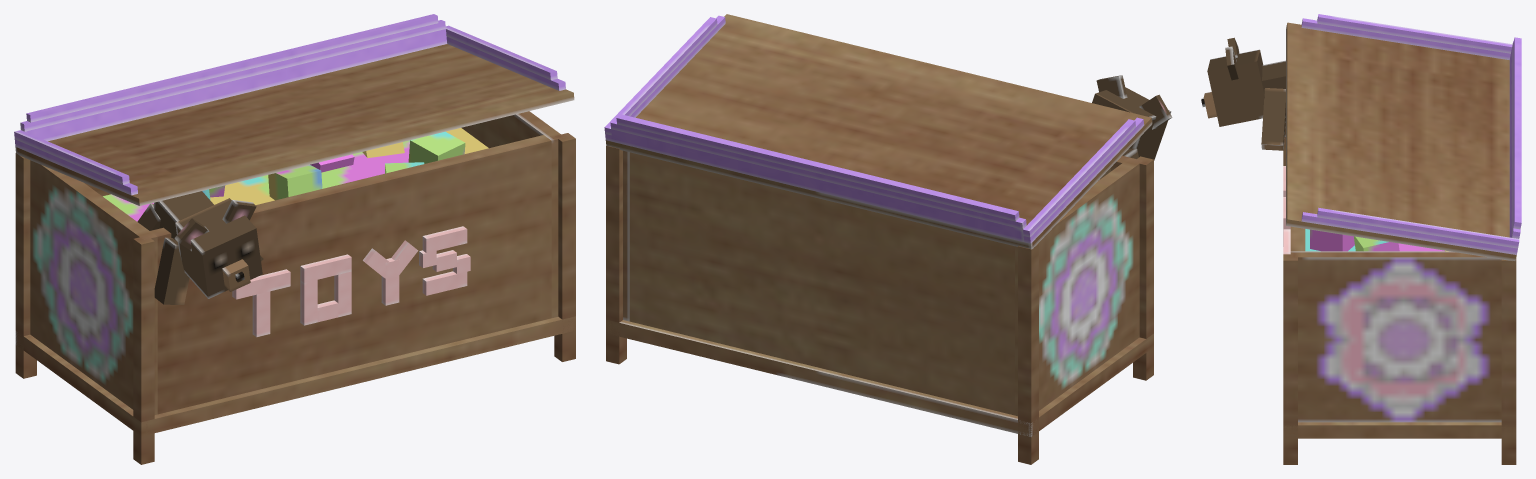
The model's file is toybox_girl.obj.
The picture shows the model from 3 angles, left to right: view 1: azimuth 30°, elevation 25°; view 2: azimuth 150°, elevation 25°; view 3: azimuth 270°, elevation 25°; orthographic projection. The views are drawn at different scales.
Visible parts, largest first — view 1: wall4, Lid, wall2, base, Rail5, Teddy1, leg1, Rail7, leg2, layer, Rail6, leg4 (+18 smaller); view 2: wall3, Lid, wall2, base, Rail5, Rail7, leg4, leg3, leg1, Rail6, Rail4, Teddy1 (+4 smaller); view 3: Lid, wall1, base, Teddy1, leg3, leg2, Rail3, Rail4, Rail7, Rail2, Rail, Arm2 (+7 smaller).
Part boxes in pixels (left/top/right/bottom): wall4: left=150, top=135, right=551, bottom=414; Lid: left=15, top=44, right=574, bottom=205; wall2: left=30, top=160, right=157, bottom=414; base: left=15, top=316, right=575, bottom=436; Rail5: left=25, top=29, right=447, bottom=141; Teddy1: left=175, top=198, right=262, bottom=298; leg1: left=133, top=235, right=154, bottom=464; Rail7: left=26, top=14, right=438, bottom=122; leg2: left=554, top=133, right=575, bottom=361; layer: left=103, top=128, right=488, bottom=221; Rail6: left=20, top=20, right=445, bottom=131; leg4: left=15, top=153, right=36, bottom=378; wall3: left=629, top=152, right=1014, bottom=415; Lid: left=605, top=14, right=1152, bottom=249; wall2: left=1015, top=157, right=1142, bottom=416; base: left=606, top=319, right=1153, bottom=436; Rail5: left=611, top=129, right=1024, bottom=241; Rail7: left=616, top=114, right=1019, bottom=221; leg4: left=1018, top=243, right=1038, bottom=464; leg3: left=606, top=145, right=626, bottom=364; leg1: left=1133, top=156, right=1153, bottom=380; Rail6: left=610, top=119, right=1026, bottom=229; Rail4: left=1023, top=119, right=1135, bottom=237; Teddy1: left=1092, top=87, right=1171, bottom=160; Lid: left=1286, top=22, right=1516, bottom=260; wall1: left=1290, top=251, right=1501, bottom=422; base: left=1283, top=422, right=1516, bottom=438; Teddy1: left=1207, top=49, right=1264, bottom=126; leg3: left=1501, top=259, right=1516, bottom=464; leg2: left=1283, top=254, right=1297, bottom=464; Rail3: left=1317, top=207, right=1519, bottom=248; Rail4: left=1317, top=14, right=1512, bottom=53; Rail7: left=1513, top=37, right=1521, bottom=229; Rail2: left=1301, top=212, right=1517, bottom=254; Rail: left=1301, top=18, right=1510, bottom=59; Arm2: left=1261, top=88, right=1285, bottom=150.
Bounding box in the file's own units: 4 × 2.41 × 2.75.
